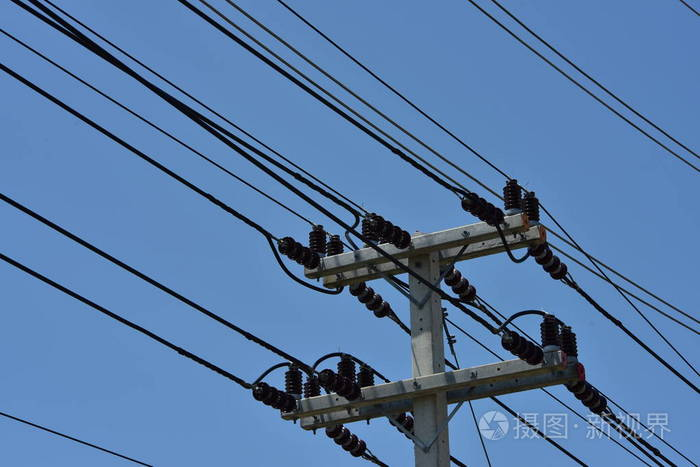insulator: (456, 189, 508, 227), (349, 278, 393, 322), (570, 377, 612, 417), (501, 331, 546, 368), (251, 381, 298, 414), (531, 245, 572, 281), (374, 213, 414, 249), (328, 423, 367, 458), (276, 238, 322, 267), (447, 270, 480, 302)
